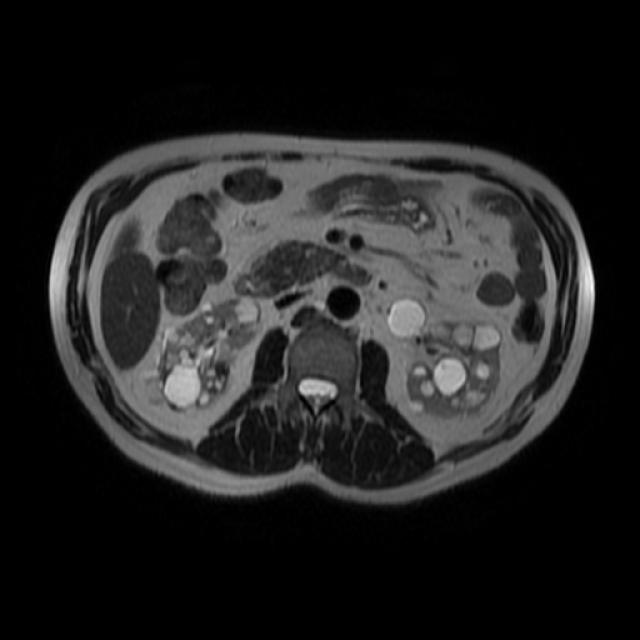sag: (155, 293, 263, 414)
sol: (385, 296, 503, 420)
